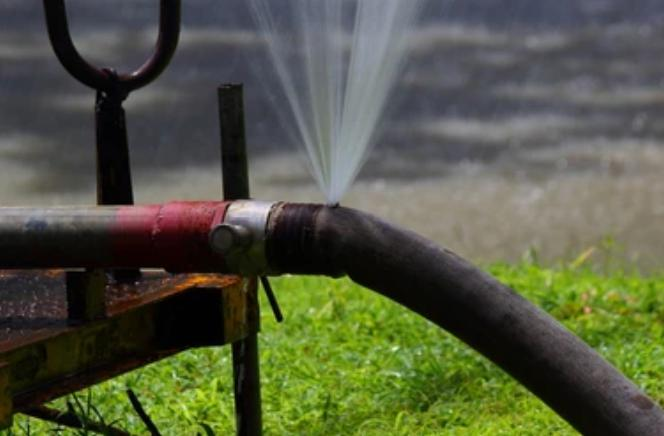pipe burst: (252, 0, 423, 214)
